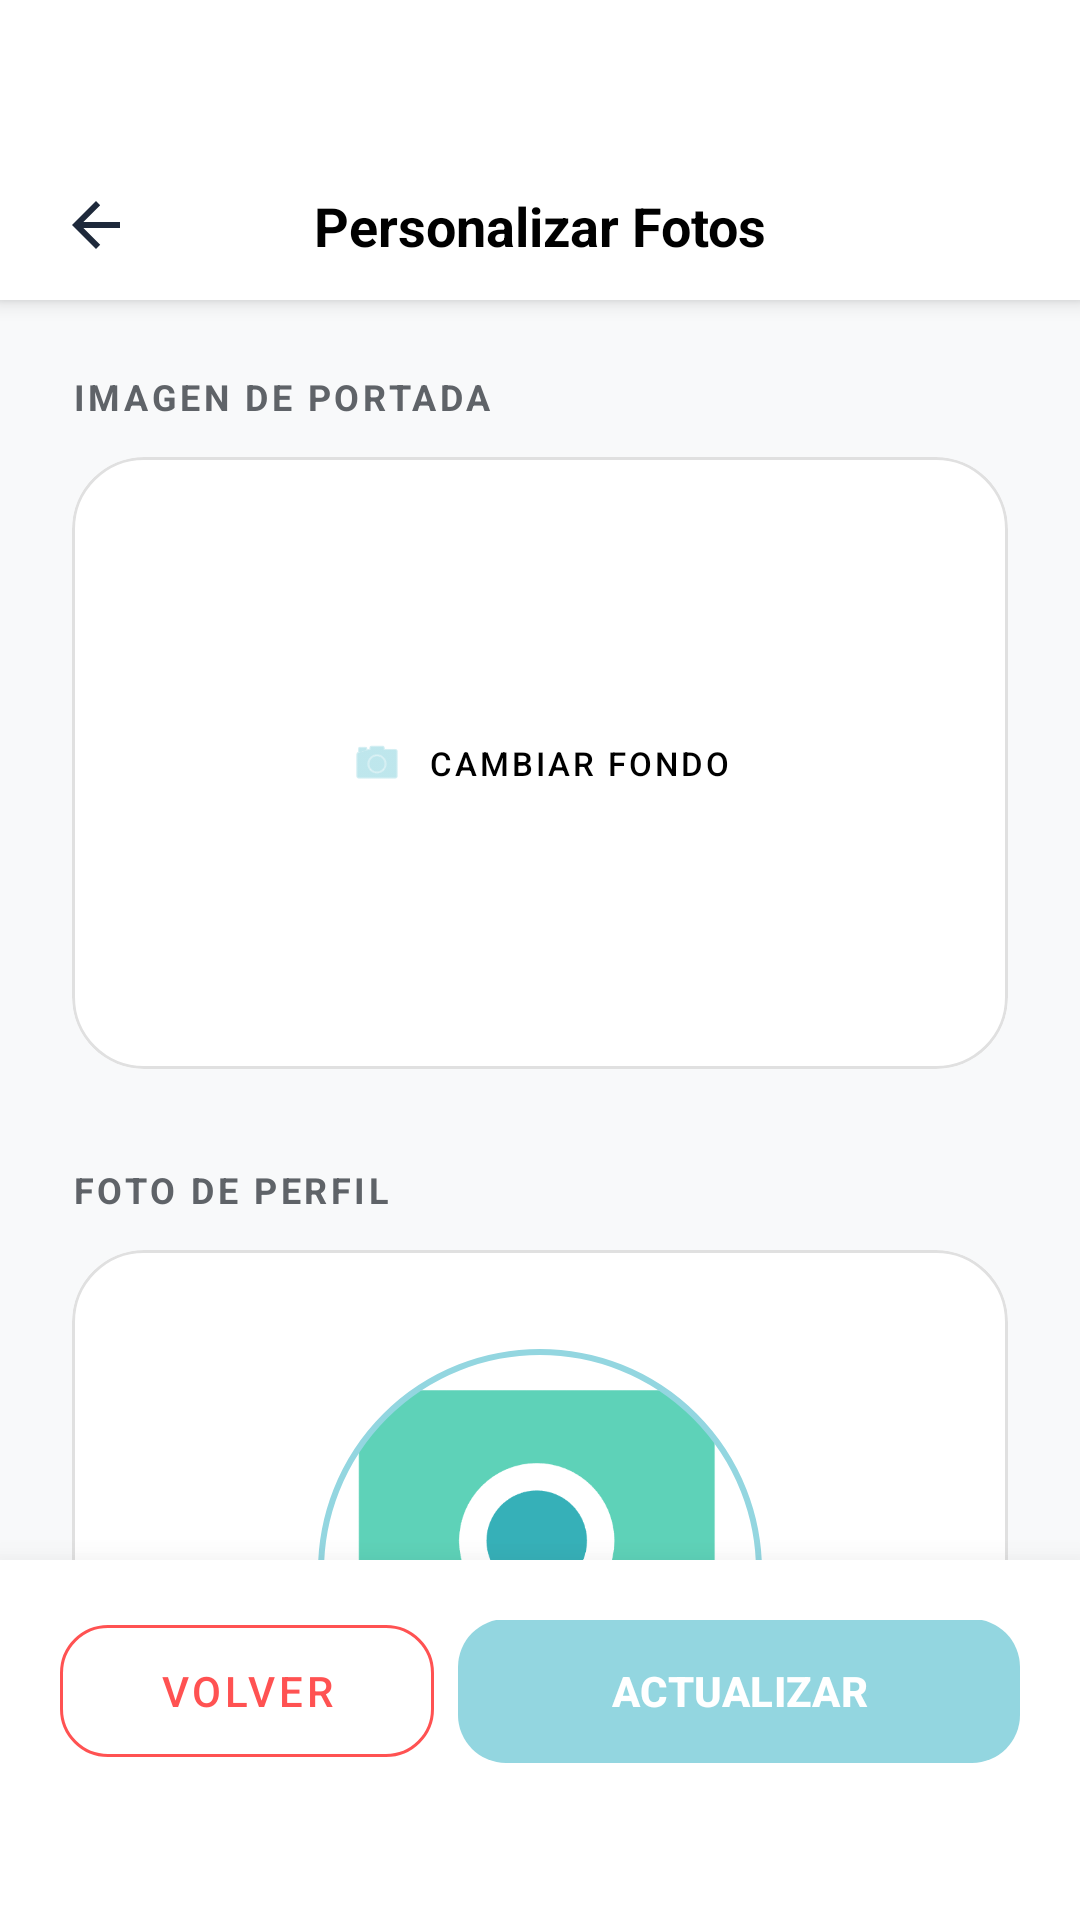

Where to tap for icons on this 1080px×1920px app screen, as (x=x, y=y):
Atrás: (x=96, y=225)
